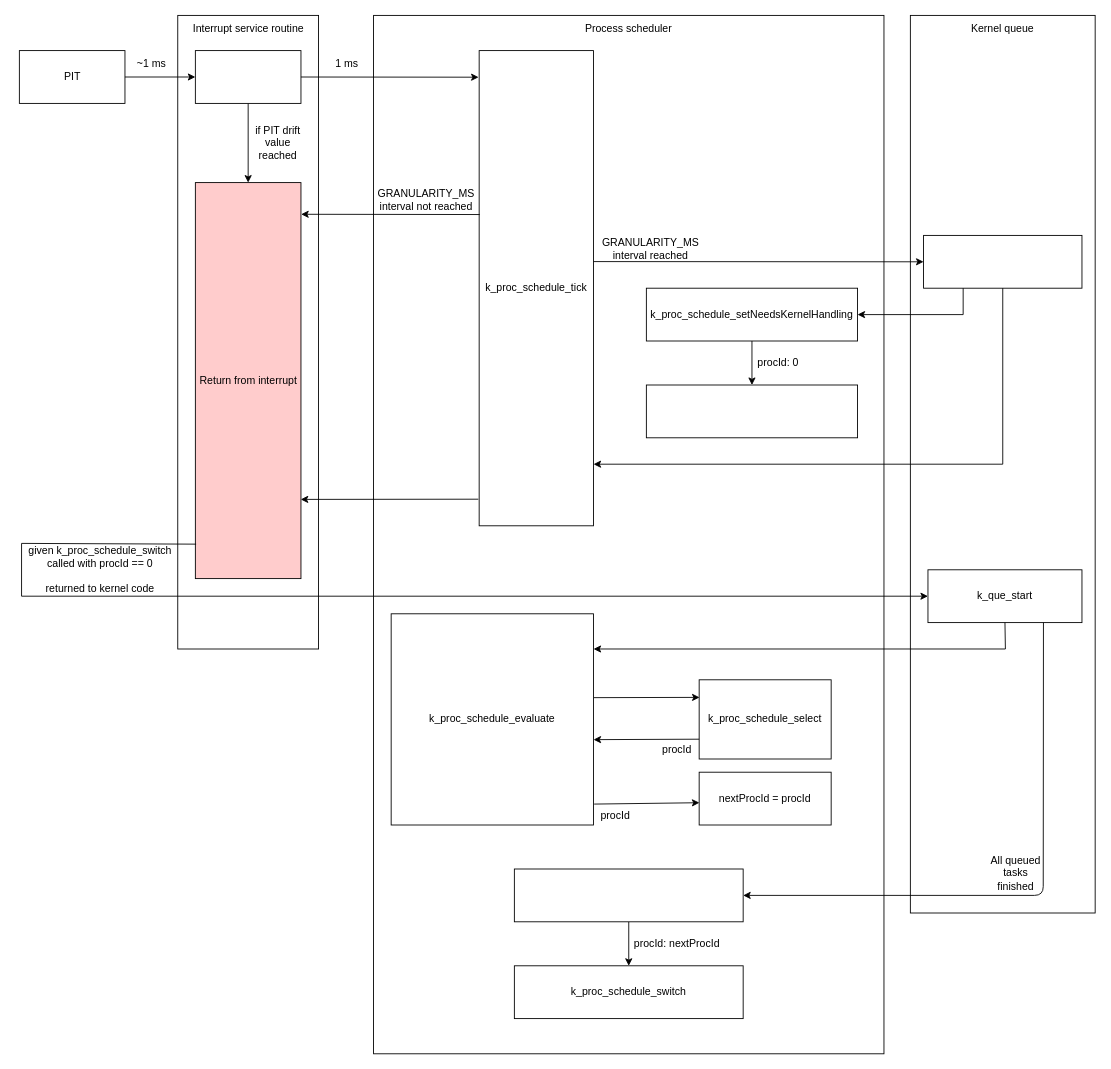
Image size: 1111x1069. Some labels were removed from this diagram. Each missing label, with the centre of its shape:
"k_proc_schedule_onKernelHandlingFinished" belongs at point (628, 895).
"k_proc_schedule_switchStack" belongs at point (751, 411).
"k_que_dispatch( k_proc_schedule_evaluate )" belongs at point (1002, 261).
"k_tmr_tick" belongs at point (247, 76).
